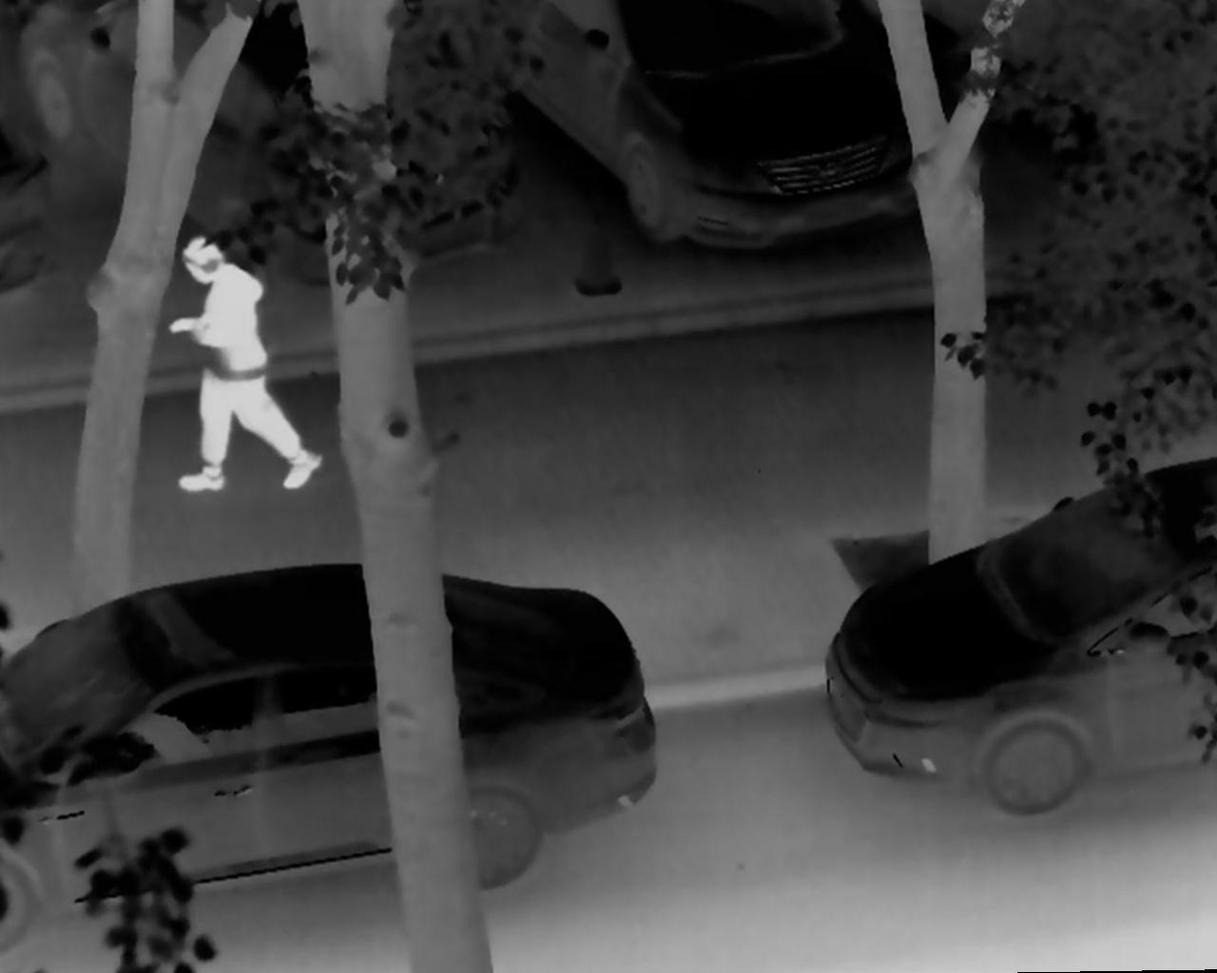person: (165, 233, 321, 488)
